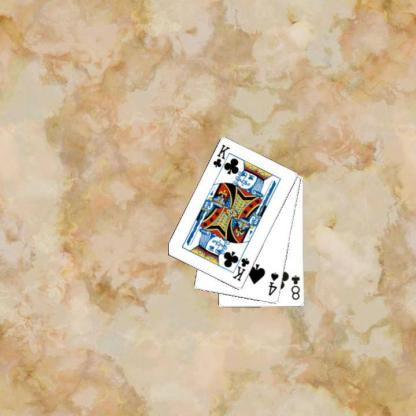4S: (266, 270, 281, 297)
8C: (289, 273, 301, 301)
KC: (229, 250, 251, 282), (210, 142, 232, 174)
